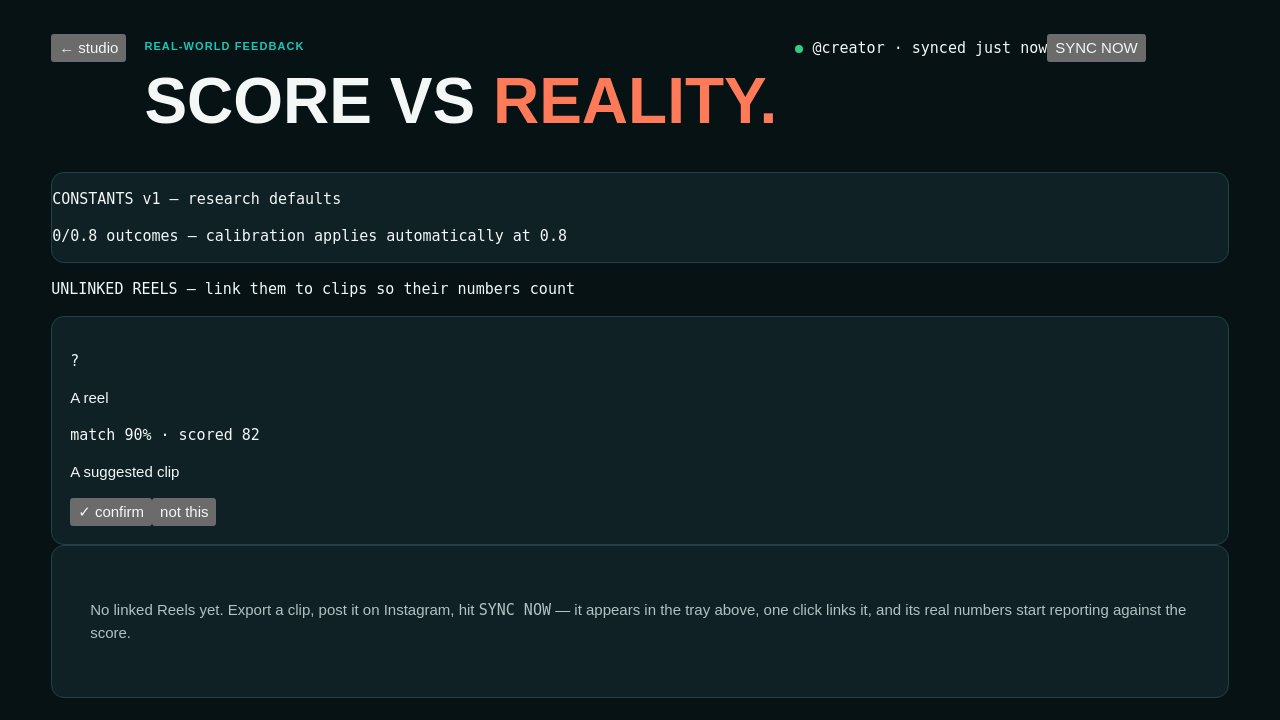
Instagram loop recovery › surfaces link failures without an unhandled rejection
This screenshot has width=1280, height=720.
Check: the text "A reel" is shown, box left=70, top=389, right=109, bottom=406
Click the button with aria-label "Confirm suggested clip".
click(111, 512)  # box left=70, top=498, right=152, bottom=526
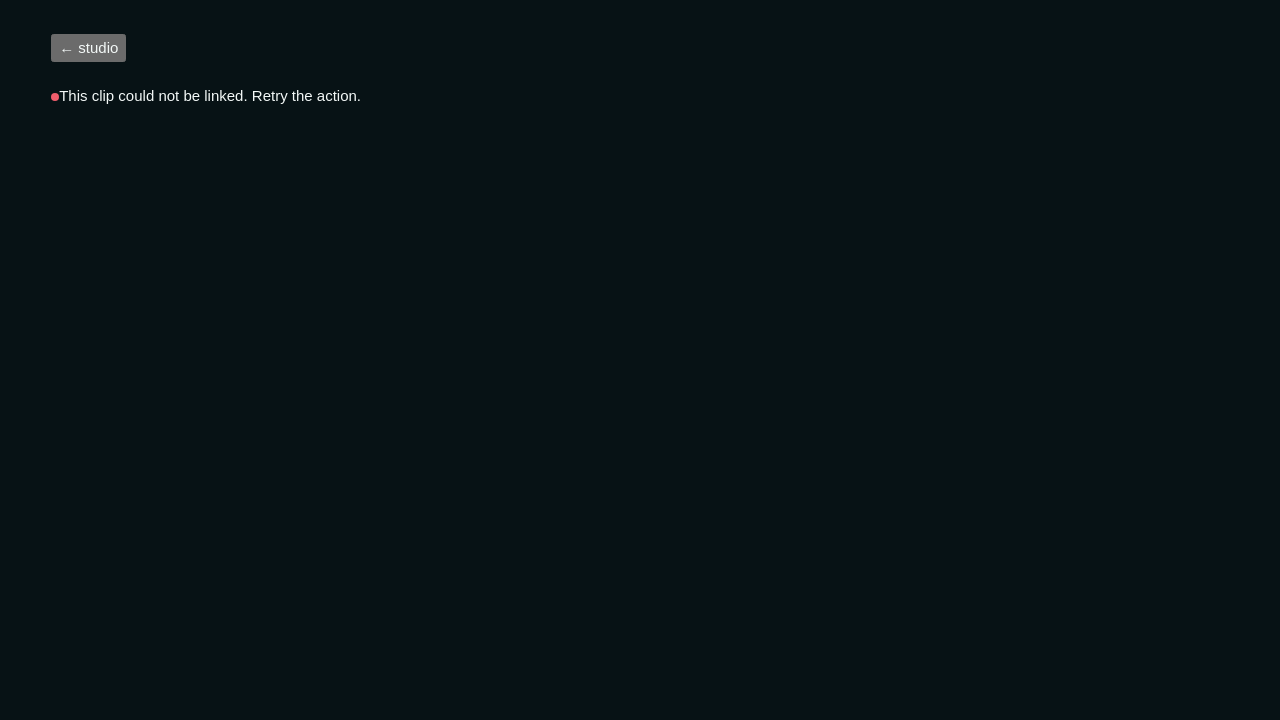
Check: the text "This clip could not be linked. Retry the action." is shown, box left=51, top=87, right=361, bottom=104
